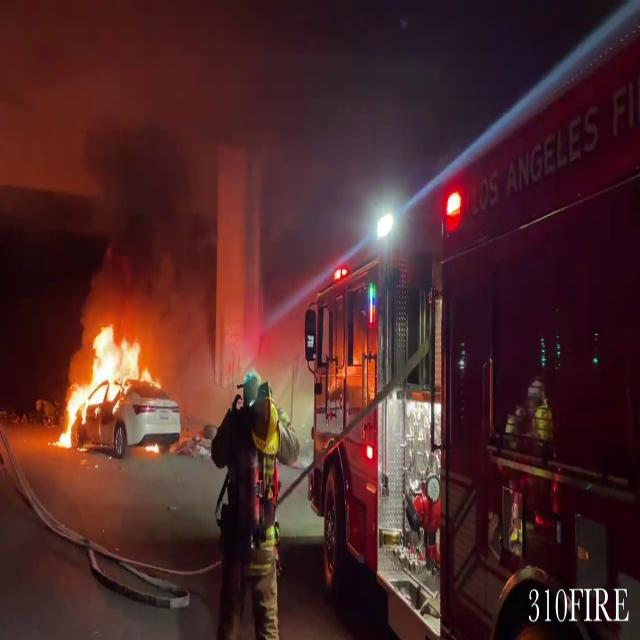Fire: (52, 317, 160, 449)
Smoke: (82, 110, 202, 324)
